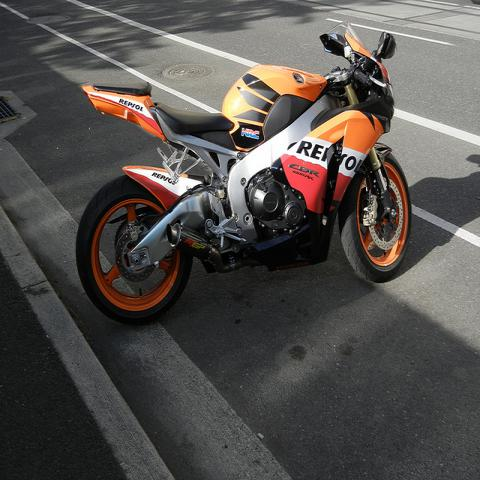motorcycle: (74, 30, 414, 325)
